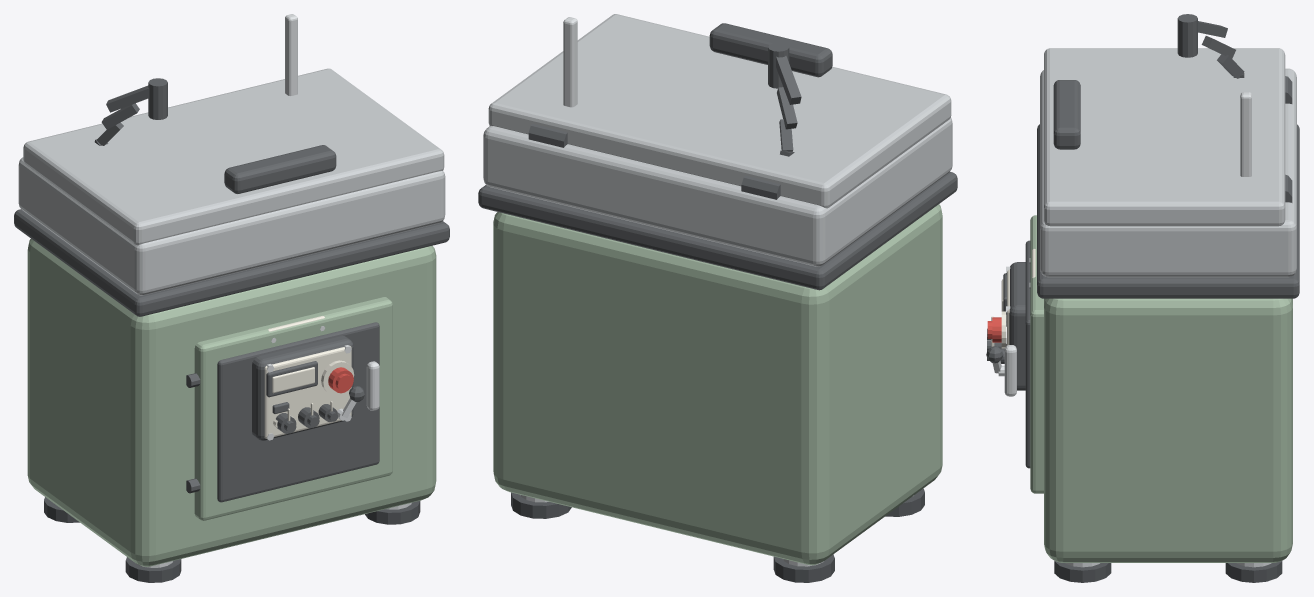
File: parts-washing-cabinet-with-lift-lid.glb
The picture shows the model from 3 angles, left to right: view 1: azimuth 30°, elevation 25°; view 2: azimuth 150°, elevation 25°; view 3: azimuth 270°, elevation 25°; orthographic projection. The views are drawn at different scales.
Visible parts, largest first — view 1: machine-shop-and-factory-hall-parts-washer, washer-lid/cast, washer-lid/charcoal; view 2: machine-shop-and-factory-hall-parts-washer, washer-lid/cast, washer-lid/charcoal; view 3: machine-shop-and-factory-hall-parts-washer, washer-lid/cast, washer-lid/charcoal.
Part boxes in pixels (left/top/right/bottom): machine-shop-and-factory-hall-parts-washer: left=14, top=14, right=449, bottom=582; washer-lid/cast: left=23, top=68, right=444, bottom=245; washer-lid/charcoal: left=224, top=145, right=336, bottom=193; machine-shop-and-factory-hall-parts-washer: left=478, top=17, right=957, bottom=582; washer-lid/cast: left=488, top=14, right=951, bottom=208; washer-lid/charcoal: left=528, top=23, right=832, bottom=199; machine-shop-and-factory-hall-parts-washer: left=986, top=14, right=1299, bottom=582; washer-lid/cast: left=1044, top=48, right=1285, bottom=226; washer-lid/charcoal: left=1053, top=76, right=1292, bottom=202.
Size of the model in its own units: 0.975 by 1.32 by 0.8055.
